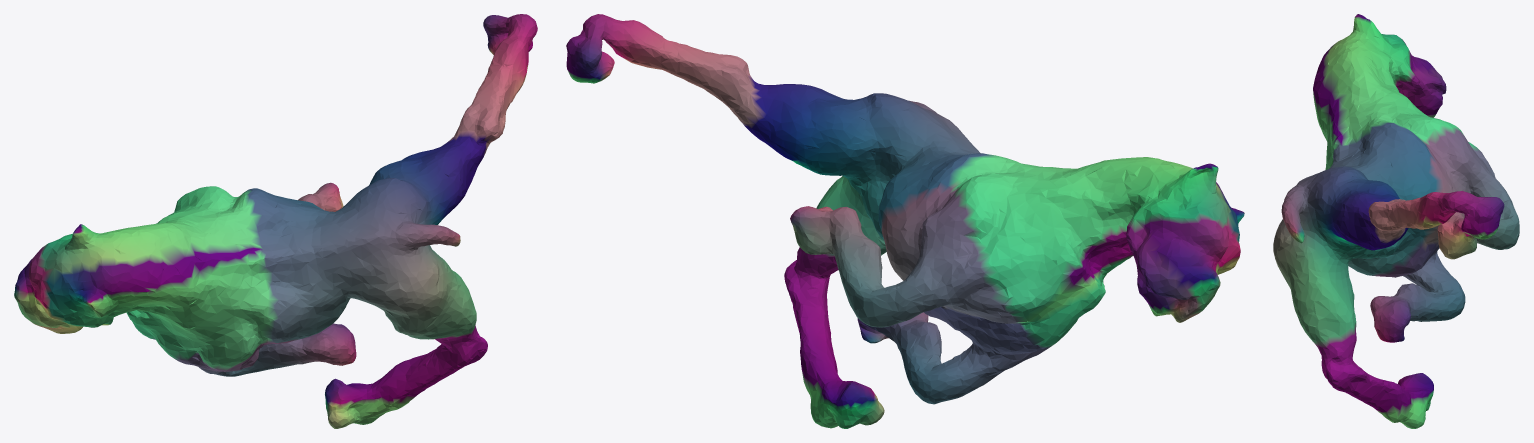
The model's file is dog1-19.off.obj.
3 views of the same model, side by side, from view 1: azimuth 30°, elevation 25°; view 2: azimuth 150°, elevation 25°; view 3: azimuth 270°, elevation 25° (orthographic). The views are drawn at different scales.
Size of the model in its own units: 1.52 by 0.9069 by 0.6362.
